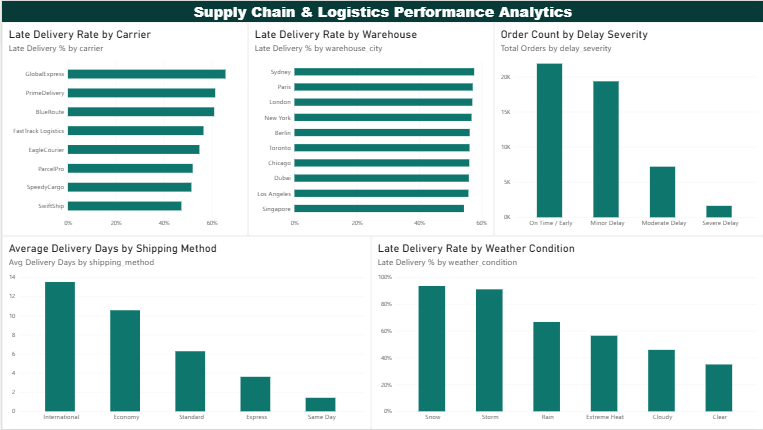

This screenshot's page, from the dashboard's own definition file:
{"tool":"powerbi","page":{"name":"Delivery Operations","canvas":[1920,1080],"ordinal":1},"visuals":[{"type":"clusteredBarChart","title":"Late Delivery Rate by Carrier","fields":{"Category":["Supply_Chain_Feature_Engineered.carrier"],"Y":["Supply_Chain_Feature_Engineered.Late Delivery %"]},"box":[0,52.9,619.8,539.2],"z":0},{"type":"clusteredBarChart","title":"Late Delivery Rate by Warehouse","fields":{"Category":["Supply_Chain_Feature_Engineered.warehouse_city"],"Y":["Supply_Chain_Feature_Engineered.Late Delivery %"]},"box":[619.8,52.9,619.8,539.2],"z":1000},{"type":"clusteredColumnChart","title":"Average Delivery Days by Shipping Method","fields":{"Category":["Supply_Chain_Feature_Engineered.shipping_method"],"Y":["Supply_Chain_Feature_Engineered.Avg Delivery Days"]},"box":[0,592.1,929.8,488.8],"z":2000},{"type":"clusteredColumnChart","title":"Order Count by Delay Severity","fields":{"Category":["Supply_Chain_Feature_Engineered.delay_severity"],"Y":["Supply_Chain_Feature_Engineered.Total Orders"]},"box":[1239.7,52.9,680.3,539.2],"z":3000},{"type":"clusteredColumnChart","title":"Late Delivery Rate by Weather Condition","fields":{"Category":["Supply_Chain_Feature_Engineered.weather_condition"],"Y":["Supply_Chain_Feature_Engineered.Late Delivery %"]},"box":[929.8,592.1,990.2,488.8],"z":4000},{"type":"shape","box":[0,0,1920,52.9],"z":4001}]}

Visuals, with their boxes in screenshot pixels (x1, y1, x2, y2), scaled from the page's 1920x1080 canvas onto the 763x430 screenshot:
"Late Delivery Rate by Carrier" clusteredBarChart: 0,21,246,236
"Late Delivery Rate by Warehouse" clusteredBarChart: 246,21,493,236
"Average Delivery Days by Shipping Method" clusteredColumnChart: 0,236,369,429
"Order Count by Delay Severity" clusteredColumnChart: 493,21,762,236
"Late Delivery Rate by Weather Condition" clusteredColumnChart: 369,236,762,429
shape: 0,0,762,21
